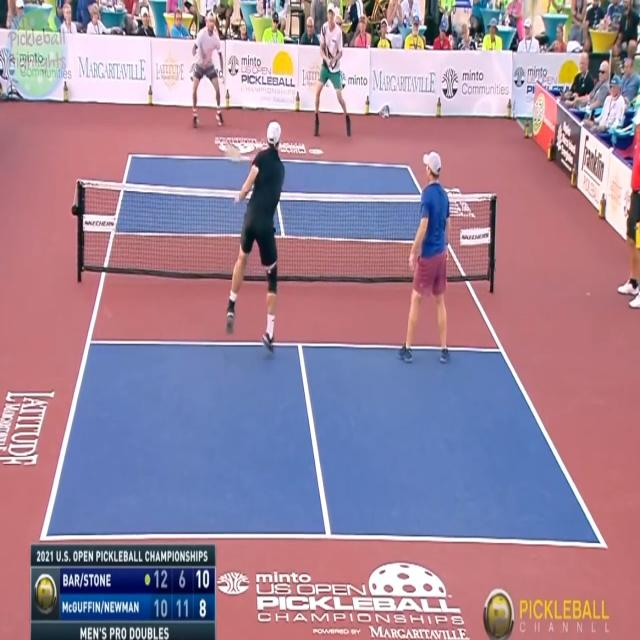Court: (43, 160, 607, 549)
